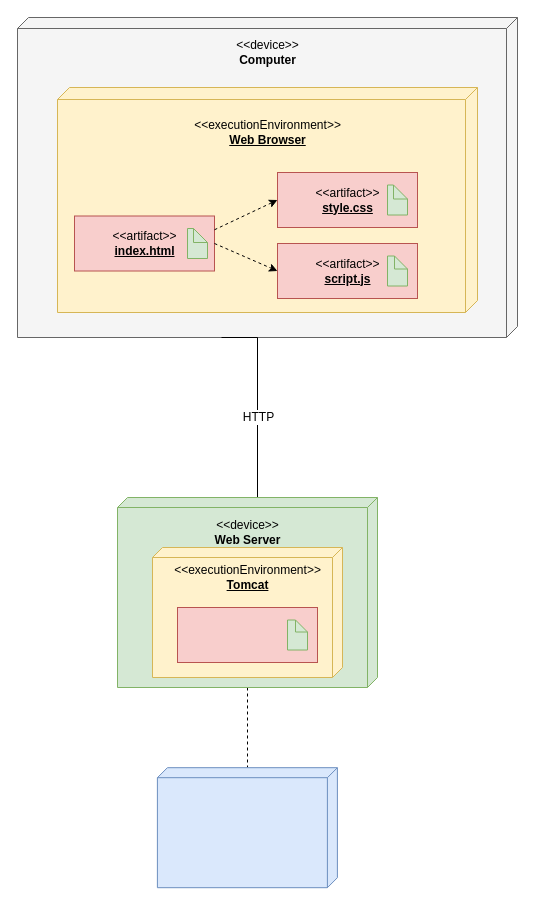
Some shapes in this 535 by 906 pixel diagram are drawn without their labels. Each missing label, with the box of its shape:
<<artifact>> index.php: (176, 606, 318, 662)
<<device>> Firewall: (156, 767, 337, 888)
